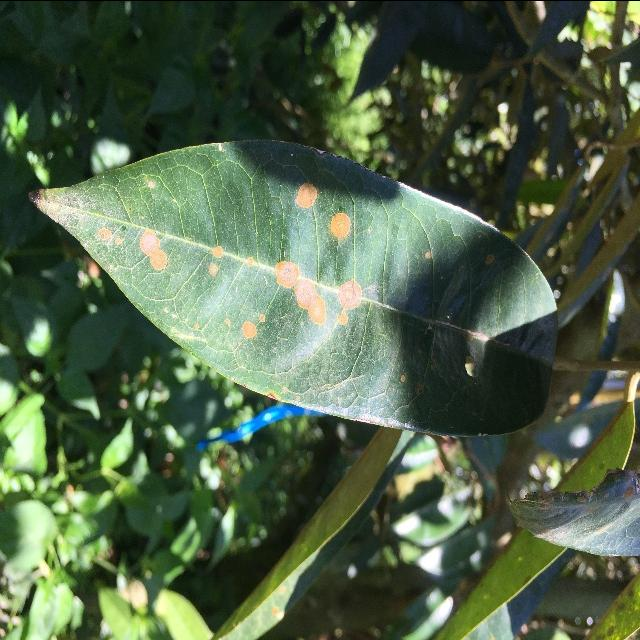Algal Leaf Spot: (25, 124, 577, 451)
